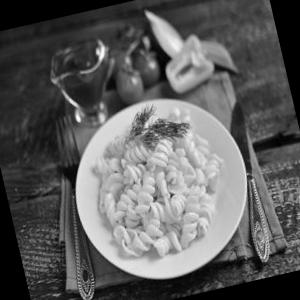pasta: (53, 86, 240, 282)
